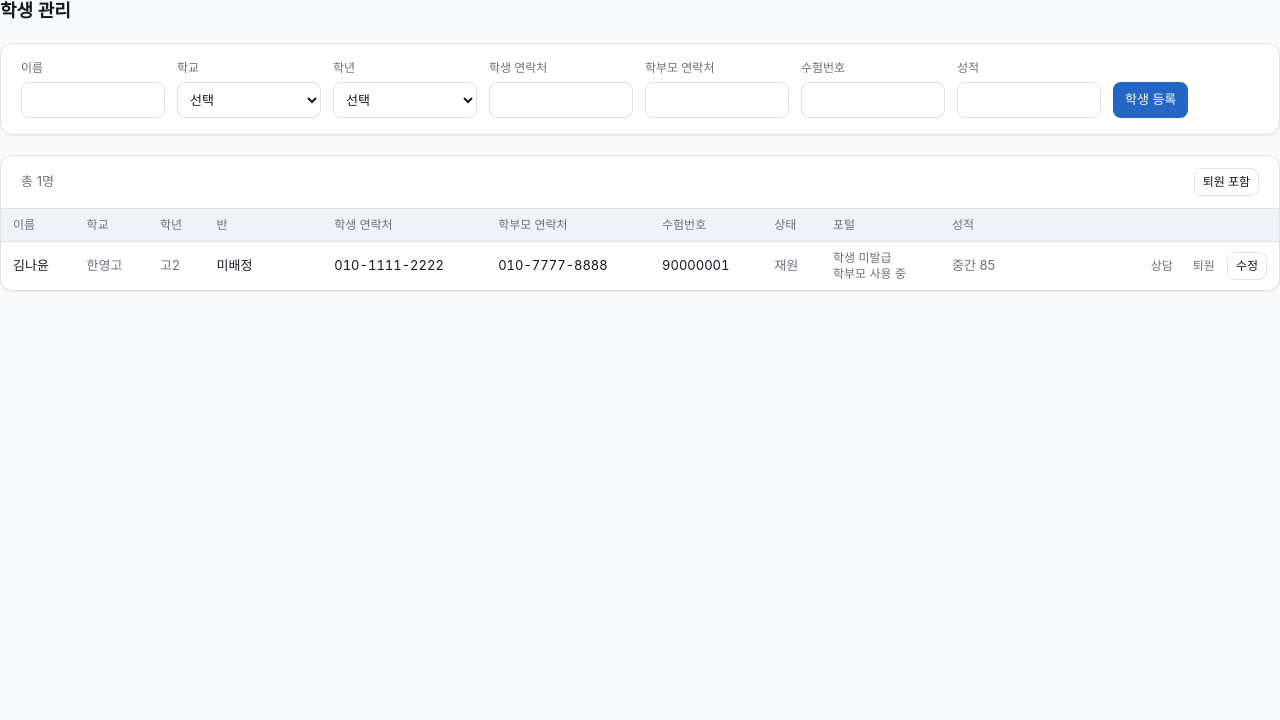
Test: StudentsPage portal accounts › shows the state only to teachers
What coordinates should you click on to do the following:
click the button "수정"
I would click on:
 (1247, 266)
Its box is [1227,252,1267,280].
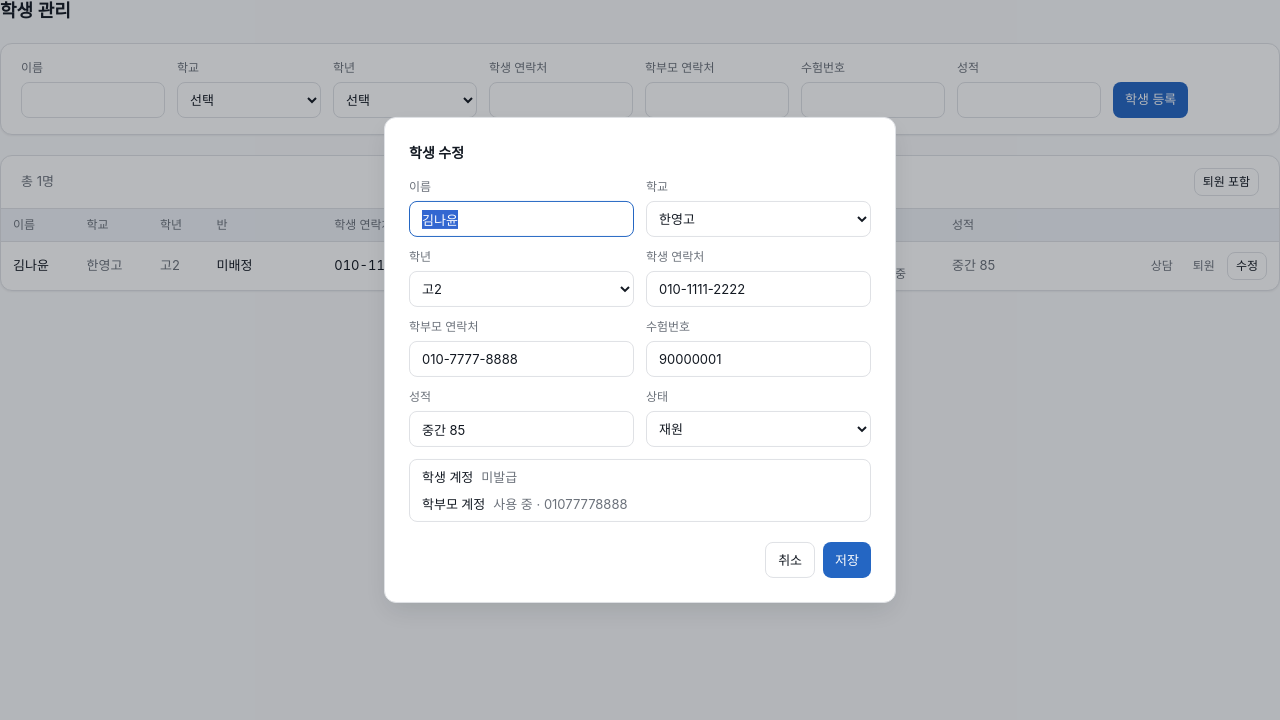
Expected: the text "학부모 계정" is shown, [422,494,485,513]
